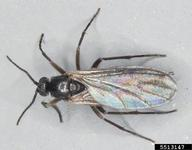Fruit fly: (14, 30, 176, 138)
